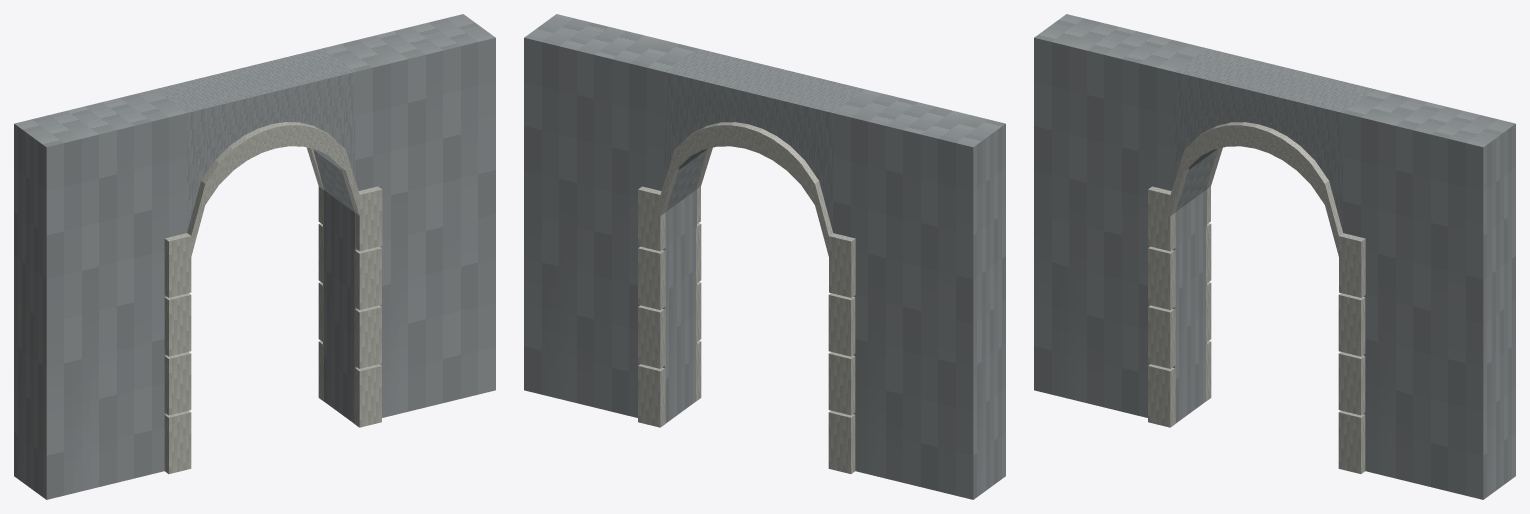
Rendered from dungeon-room-builder-wall-arch-ae27cdff__25749.glb.
3 views of the same model, side by side, from view 1: azimuth 30°, elevation 25°; view 2: azimuth 150°, elevation 25°; view 3: azimuth 330°, elevation 25° (orthographic).
Parts seen in each view (by area): view 1: wall-arch; view 2: wall-arch; view 3: wall-arch.
Part boxes in pixels (x1,y1,x2,y2): wall-arch: [14, 14, 495, 499]; wall-arch: [524, 14, 1005, 499]; wall-arch: [1034, 14, 1515, 499].
Bounding box in the file's own units: 4 × 3 × 0.6299.
2 materials, 2 textured.
